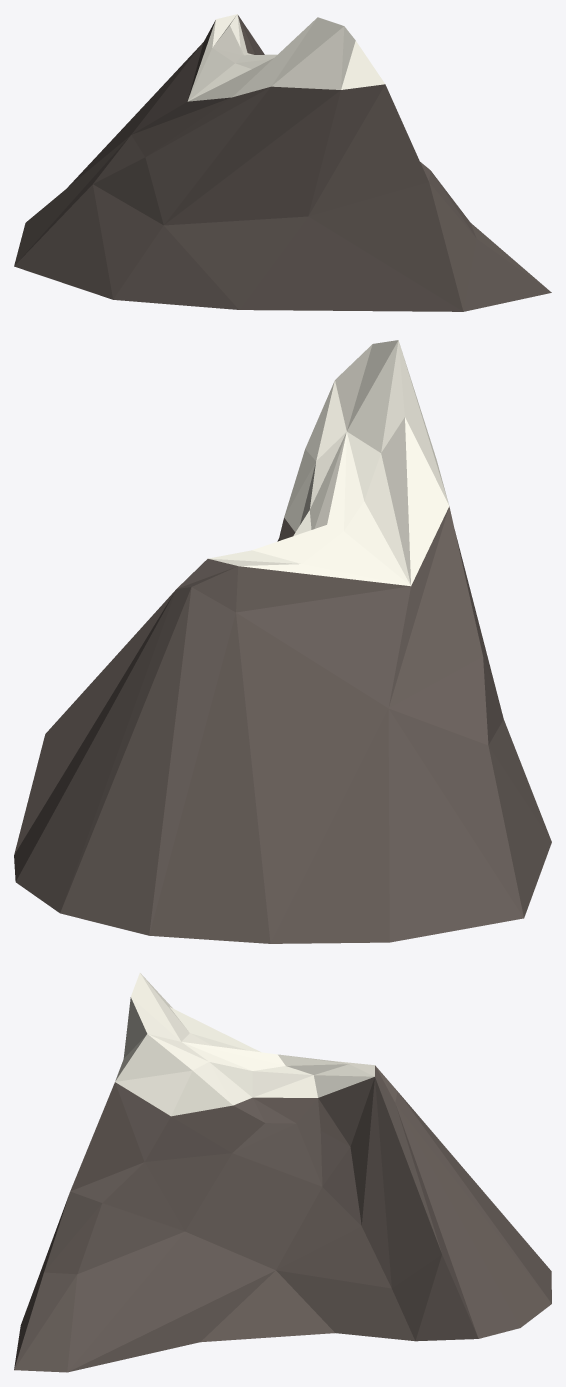
Rendered from Mountain03.FBX.
The picture shows the model from 3 angles, top to bottom: view 1: azimuth 30°, elevation 25°; view 2: azimuth 150°, elevation 25°; view 3: azimuth 270°, elevation 25°; orthographic projection. The views are drawn at different scales.
Visible parts, largest first — view 1: Mountain03; view 2: Mountain03; view 3: Mountain03.
Part boxes in pixels (bbox=[...]): Mountain03: bbox=[14, 14, 551, 311]; Mountain03: bbox=[14, 340, 551, 943]; Mountain03: bbox=[14, 973, 551, 1372].
Bounding box in the file's own units: 824 × 587 × 932.
Materials: 1 (1 with a texture image).
